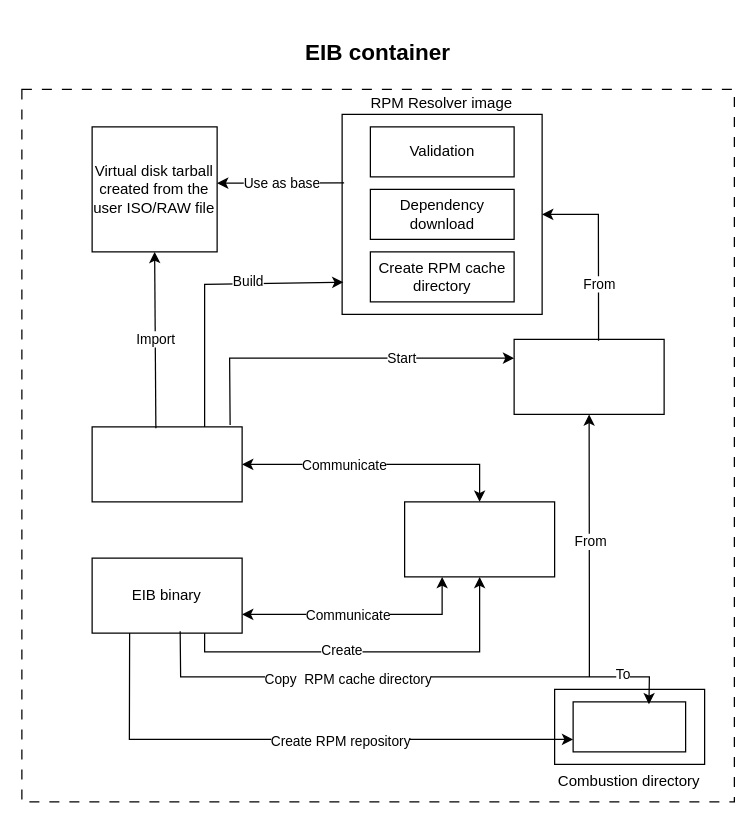
This 756x824 diagram has some shape labels left out. The centre of each missing label's shape, as x and y in pixels:
"rpm-repo" directory: [629,726]
Podman: [166,464]
Podman listening service: [479,539]
RPM resolver container: [588,376]
